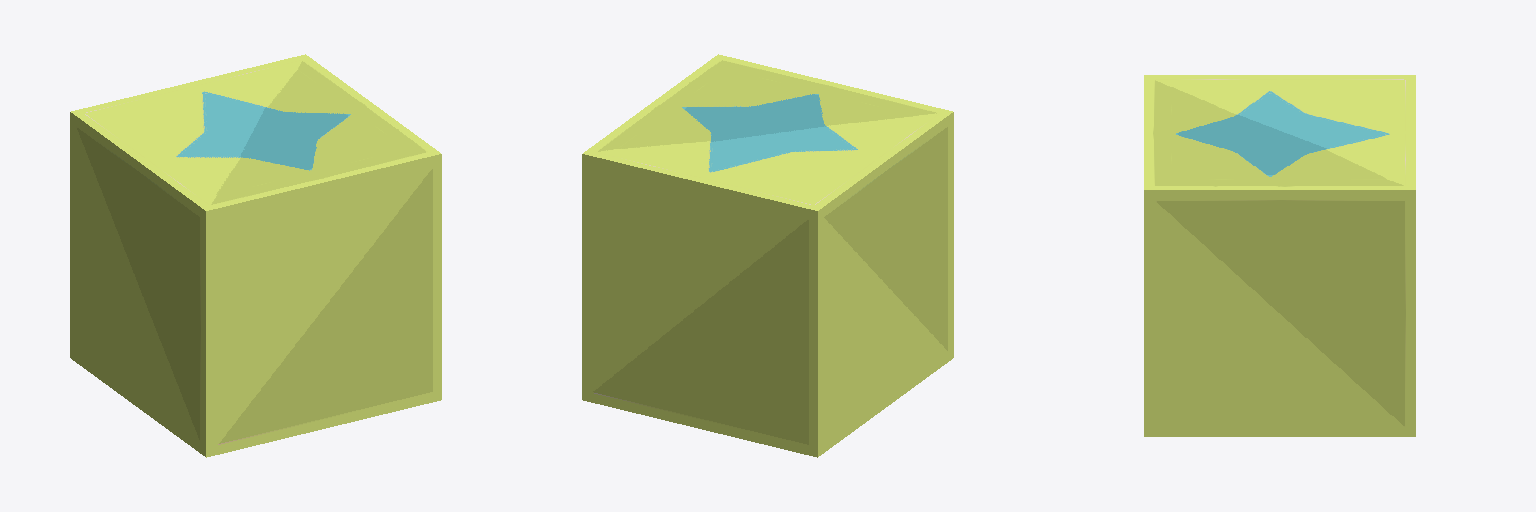
3 renders of one model, left to right at view 1: azimuth 30°, elevation 25°; view 2: azimuth 150°, elevation 25°; view 3: azimuth 270°, elevation 25°, orthographic.
Parts seen in each view (by area): view 1: Cube; view 2: Cube; view 3: Cube.
Part boxes in pixels (x1,y1,x2,y2): Cube: (70,54,441,457); Cube: (582,54,953,457); Cube: (1144,75,1415,436).
Bounding box in the file's own units: 2 × 2 × 2.
1 materials, 1 textured.